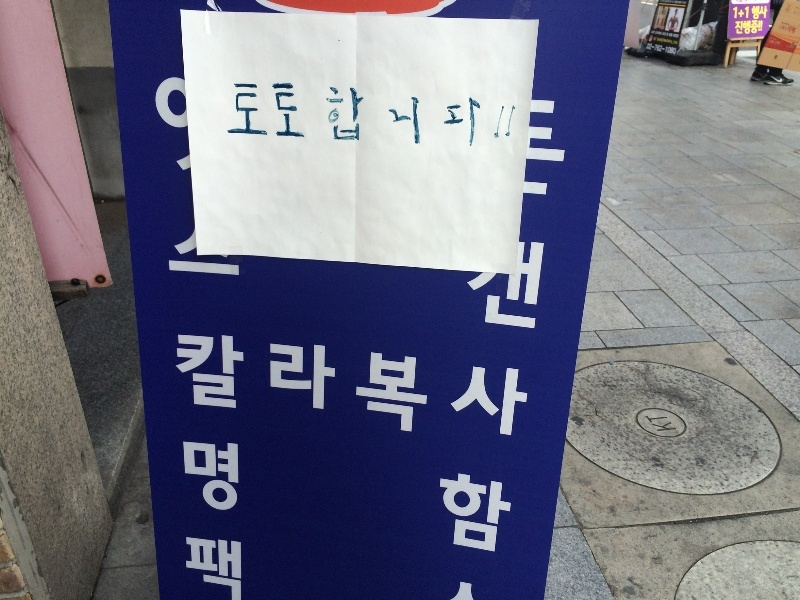text: (193, 433, 208, 561), (209, 433, 224, 561), (225, 433, 240, 561), (241, 433, 256, 561), (257, 433, 272, 561), (273, 433, 288, 561), (289, 433, 304, 561), (305, 433, 320, 561), (321, 433, 336, 561), (337, 433, 352, 561), (353, 433, 368, 561), (369, 433, 384, 561), (385, 433, 400, 561), (401, 433, 416, 561), (417, 433, 432, 561), (433, 433, 448, 561), (449, 433, 464, 561), (465, 433, 480, 561), (481, 433, 496, 561), (497, 433, 512, 561), (177, 330, 192, 449), (193, 330, 208, 449), (209, 330, 224, 449), (225, 330, 240, 449), (241, 330, 256, 449), (257, 330, 272, 449), (273, 330, 288, 449), (289, 330, 304, 449), (305, 330, 320, 449), (321, 330, 336, 449), (337, 330, 352, 449), (353, 330, 368, 449), (369, 330, 384, 449), (385, 330, 400, 449), (401, 330, 416, 449), (417, 330, 432, 449), (433, 330, 448, 449), (449, 330, 464, 449), (465, 330, 480, 449), (481, 330, 496, 449), (497, 330, 512, 449), (513, 330, 528, 449), (545, 97, 560, 203), (180, 433, 192, 561), (161, 75, 176, 174), (177, 75, 192, 174), (481, 236, 496, 334), (497, 236, 512, 334), (513, 236, 528, 334), (529, 236, 544, 334), (531, 97, 544, 203), (561, 97, 572, 203), (337, 81, 352, 149), (353, 81, 368, 149), (369, 81, 384, 149), (385, 81, 400, 149), (401, 81, 416, 149), (417, 81, 432, 149), (433, 81, 448, 149), (449, 81, 464, 149), (465, 81, 480, 149), (481, 81, 496, 149), (497, 81, 512, 149), (193, 535, 208, 599), (209, 535, 224, 599), (225, 535, 240, 599), (241, 80, 256, 142), (257, 80, 272, 142), (273, 80, 288, 142), (289, 80, 304, 142), (177, 225, 192, 280), (193, 225, 208, 280), (209, 225, 224, 280), (225, 225, 240, 280), (325, 81, 336, 149), (153, 75, 160, 174), (513, 433, 518, 561), (165, 225, 176, 280), (529, 330, 534, 449), (184, 535, 192, 599), (513, 81, 520, 149), (657, 29, 672, 58), (234, 80, 240, 142), (173, 330, 176, 449), (305, 80, 309, 142), (737, 19, 752, 35), (673, 29, 680, 58), (753, 5, 767, 19), (753, 19, 763, 35), (737, 6, 749, 19), (651, 29, 656, 58), (241, 535, 243, 599), (241, 225, 243, 280), (785, 25, 796, 35), (545, 236, 546, 334), (780, 25, 784, 35), (733, 6, 736, 19), (734, 19, 736, 35), (751, 5, 752, 19)
